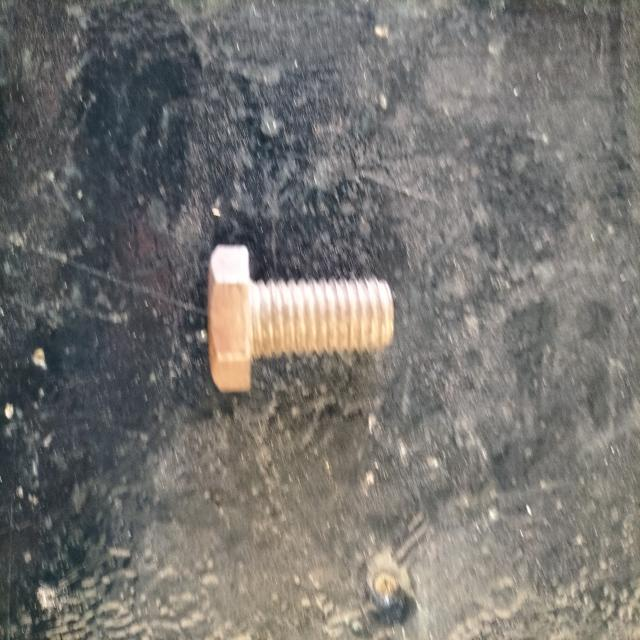bolt: (207, 245, 393, 392)
